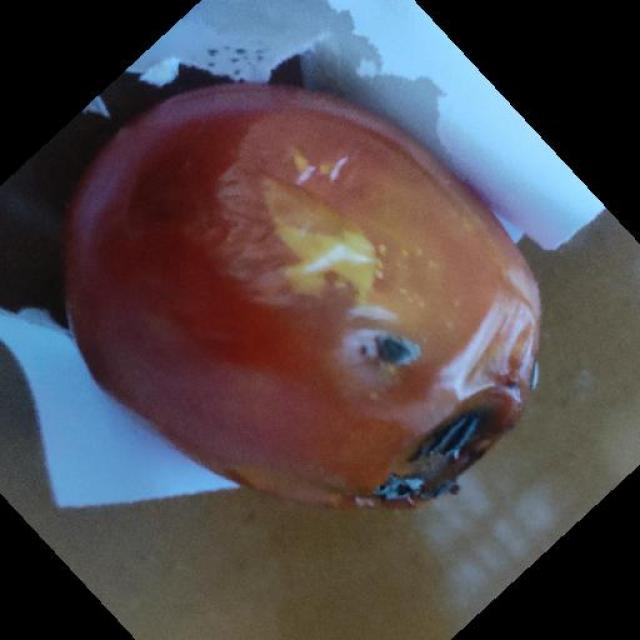Stale_tomato: (84, 68, 547, 503)
